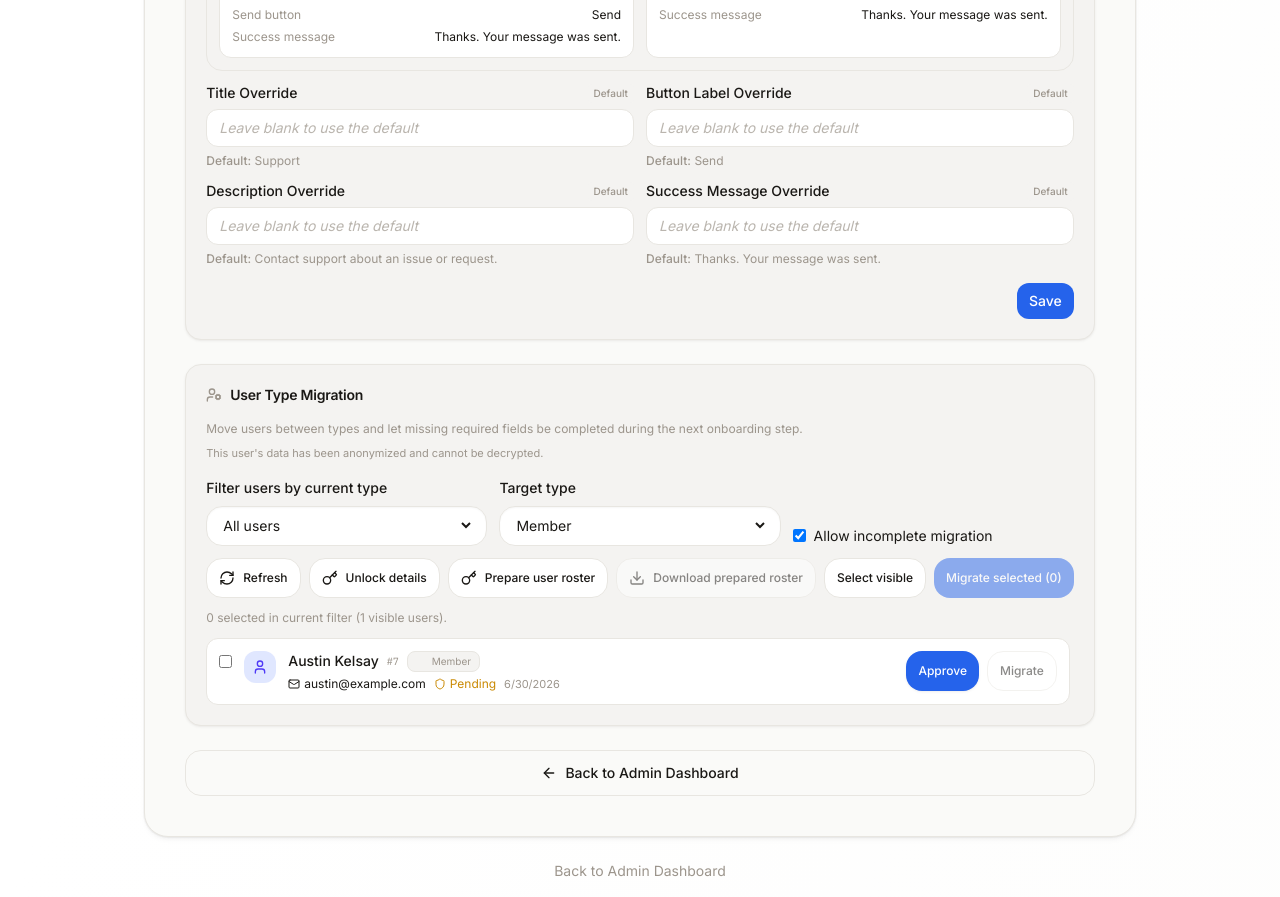
Test case: AdminUserConfig › does not download a User Roster Export when audit recording fails
This screenshot has width=1280, height=897.
(page scrolled)
Click the button "Prepare user roster". click: (528,578)
box: [448,558,608,598]
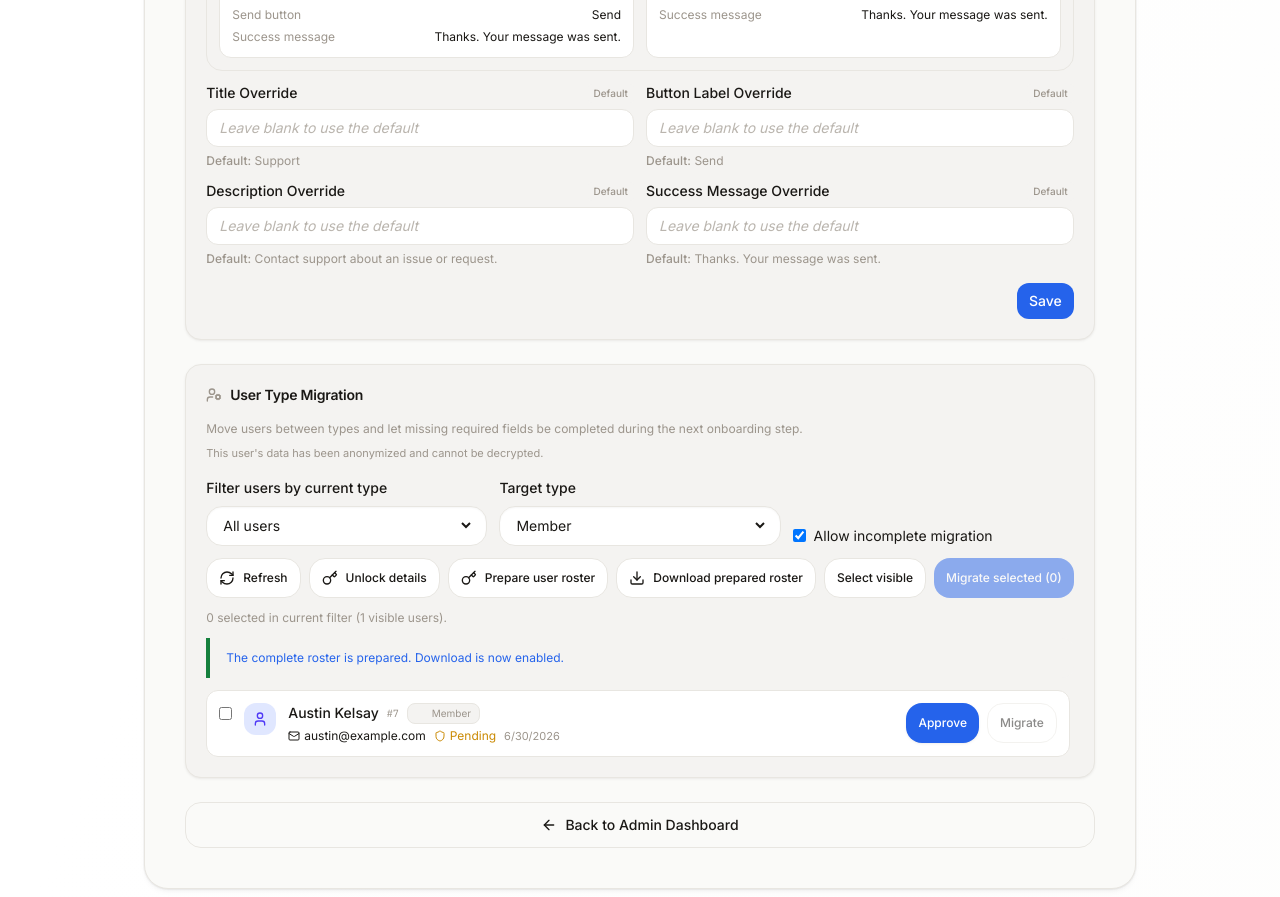
Expected: the button "Download prepared roster" is enabled
Click the button "Download prepared roster". click: (716,578)
box: [616,558,816,598]
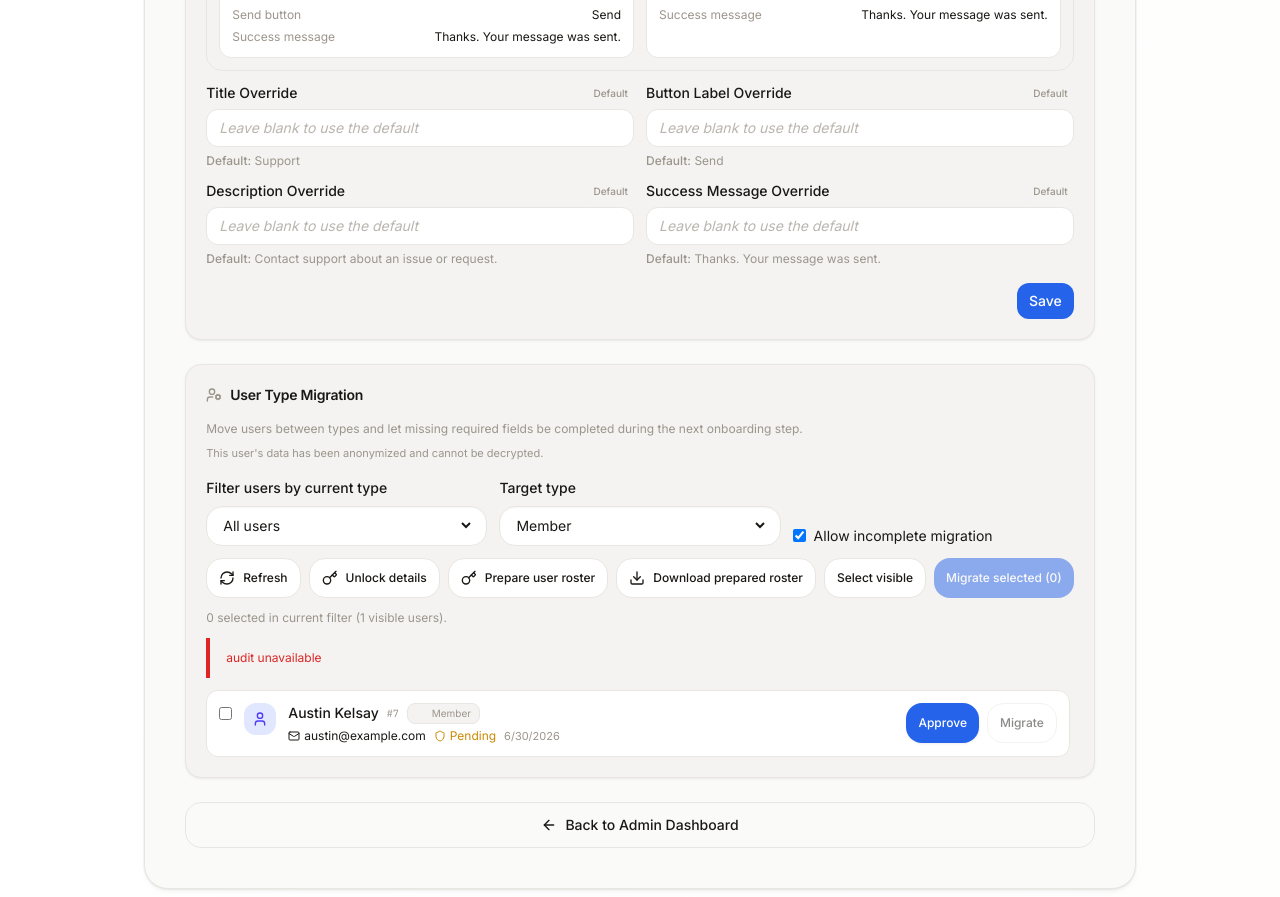
Expected: the element named "User roster export failed" reads "audit unavailable", [226,650,322,665]
